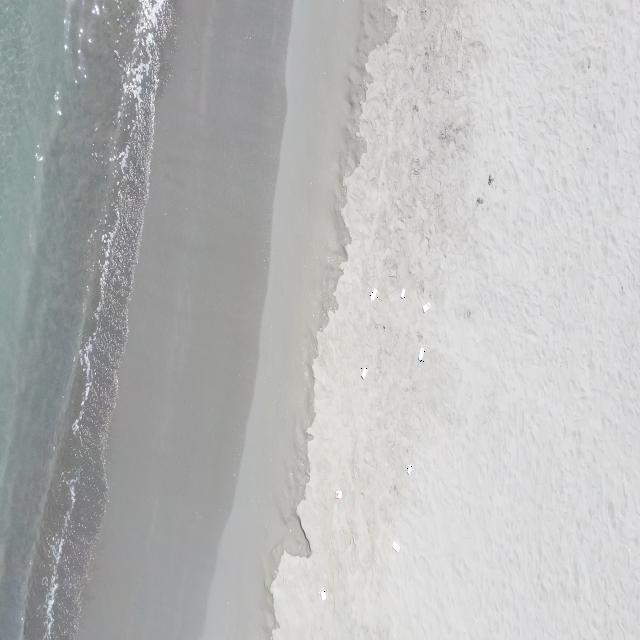Garbage: (369, 288, 376, 300), (360, 367, 367, 379), (392, 540, 399, 552), (320, 587, 326, 600), (335, 488, 342, 499), (419, 347, 424, 362), (404, 464, 412, 473), (422, 303, 430, 312), (400, 287, 404, 298)
